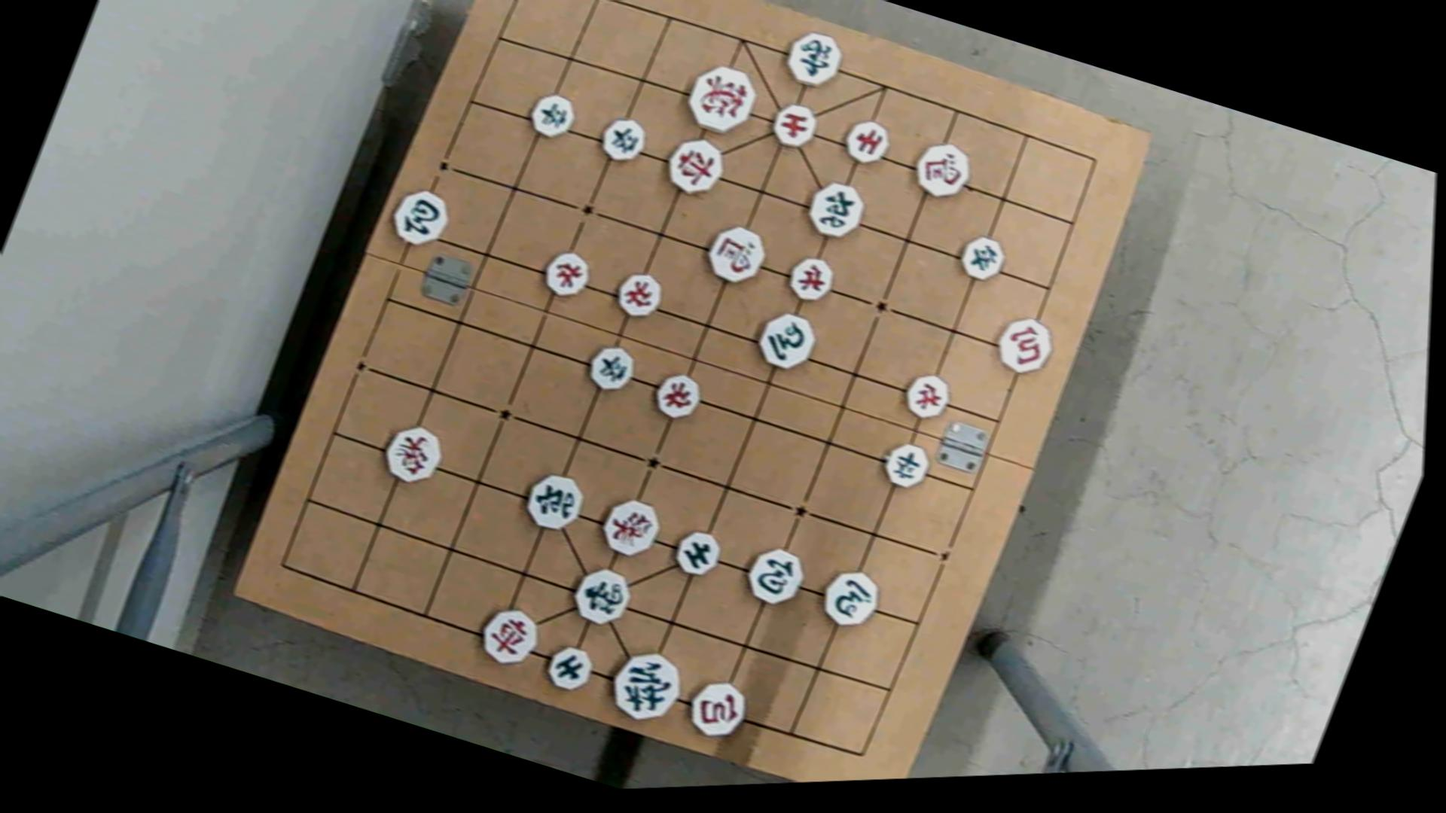cha_green: (799, 174, 871, 241), (518, 467, 590, 532)
cha_red: (655, 130, 730, 198), (473, 604, 547, 672)
jol_green: (578, 338, 640, 397), (952, 231, 1010, 285), (875, 440, 935, 492), (521, 90, 578, 142), (596, 113, 652, 163)
jol_red: (536, 243, 597, 302), (609, 265, 670, 321), (645, 370, 706, 425), (779, 252, 838, 306), (897, 370, 956, 422)
ma_green: (750, 308, 823, 376), (812, 567, 885, 633)
ma_red: (697, 221, 770, 288), (907, 137, 980, 203)
po_green: (381, 182, 456, 250), (738, 542, 810, 608)
po_red: (679, 673, 756, 742), (988, 312, 1061, 379)
sa_green: (537, 640, 599, 695), (666, 526, 726, 581)
sa_red: (761, 96, 826, 156), (835, 114, 894, 166)
sang_green: (776, 25, 849, 94), (564, 562, 636, 629)
sang_red: (374, 419, 447, 488), (594, 491, 664, 561)
wang_green: (601, 642, 693, 729)
wang_red: (674, 56, 762, 139)
